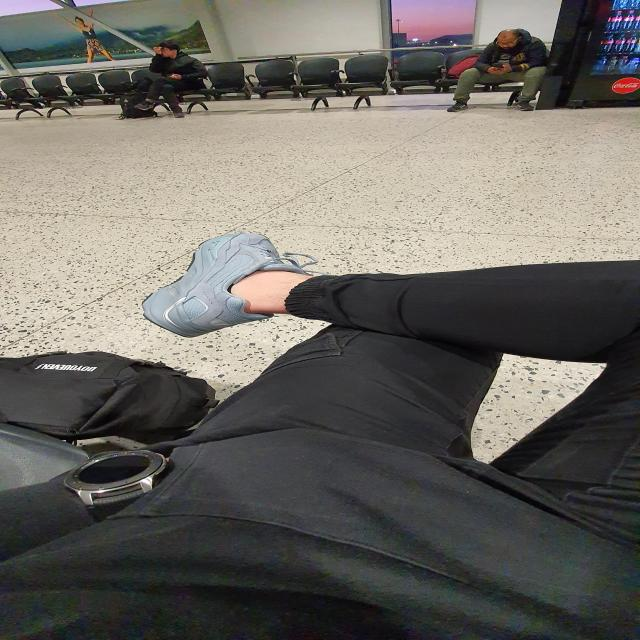shoe: (127, 225, 337, 340)
